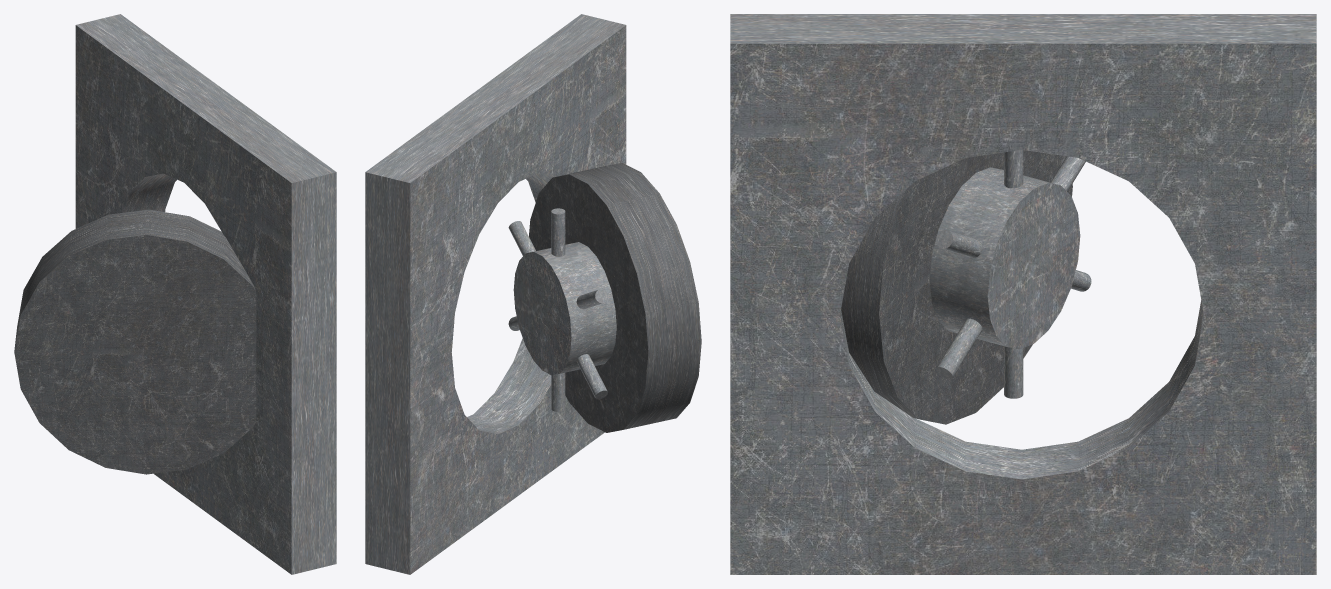
Rendered from DOOR-1.fbx.
3 renders of one model, left to right at view 1: azimuth 30°, elevation 25°; view 2: azimuth 150°, elevation 25°; view 3: azimuth 270°, elevation 25°, orthographic. The views are drawn at different scales.
Parts seen in each view (by area): view 1: polySurface8, polySurface3; view 2: polySurface8, polySurface3, polySurface9; view 3: polySurface8, polySurface9, polySurface3.
Boxes of the visible parts, x1,y1,x2,y2 form: polySurface8: [75, 14, 336, 574]; polySurface3: [14, 209, 256, 474]; polySurface8: [365, 14, 626, 574]; polySurface3: [529, 163, 701, 432]; polySurface9: [508, 208, 616, 411]; polySurface8: [730, 14, 1316, 574]; polySurface9: [929, 150, 1091, 398]; polySurface3: [841, 150, 1072, 424].
Size of the model in its own units: 1.81 by 3.06 by 3.06.
2 materials, 2 textured.
